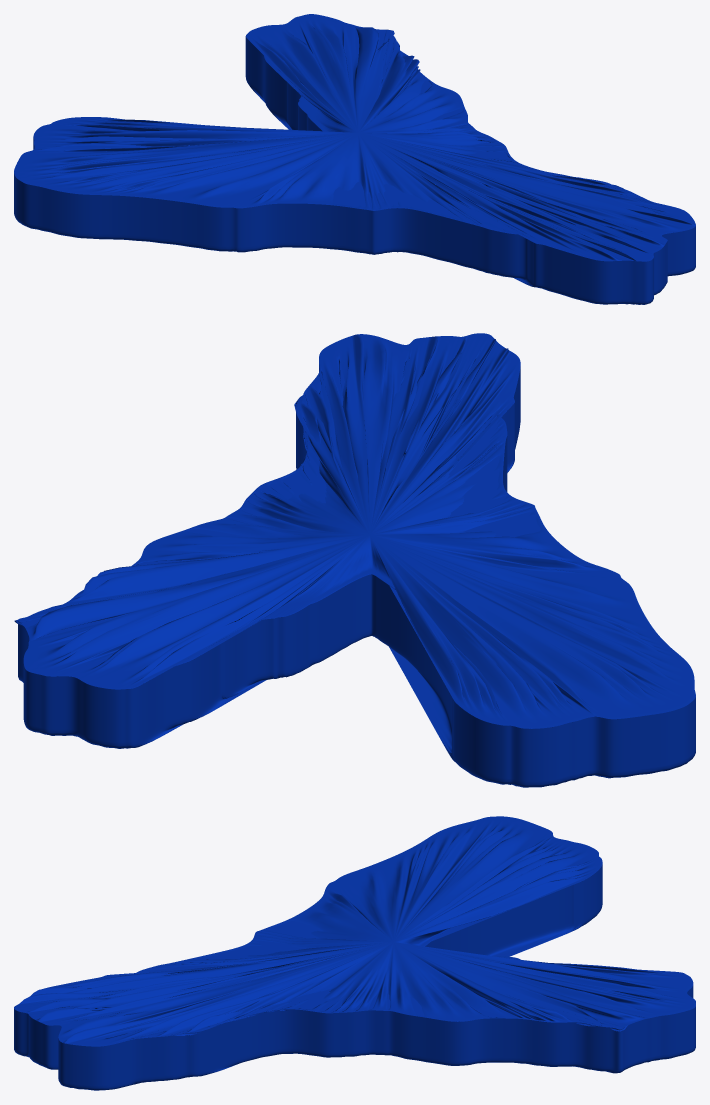
Rendered from Y foermiger Antikoerper (Faces umgedreht).fbx.
3 renders of one model, top to bottom at view 1: azimuth 30°, elevation 25°; view 2: azimuth 150°, elevation 25°; view 3: azimuth 270°, elevation 25°, orthographic. The views are drawn at different scales.
Parts seen in each view (by area): view 1: Antikörper_Grundform1; view 2: Antikörper_Grundform1; view 3: Antikörper_Grundform1.
Part boxes in pixels (bbox=[...]): Antikörper_Grundform1: bbox=[14, 14, 695, 304]; Antikörper_Grundform1: bbox=[14, 333, 695, 787]; Antikörper_Grundform1: bbox=[14, 816, 695, 1090].
Size of what is drawn, in the model's own units: 1.12 by 0.1423 by 1.4.
